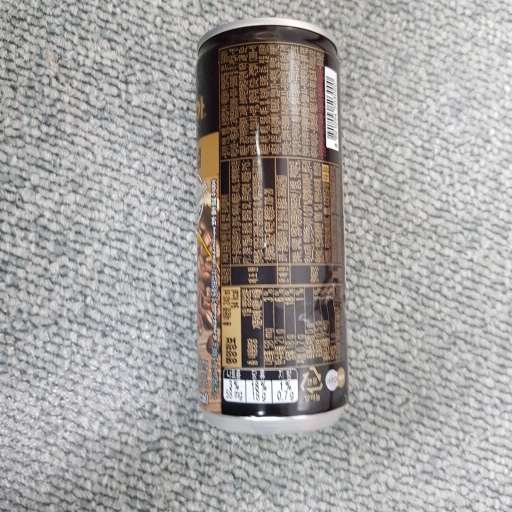Metal_0: (194, 16, 350, 446)
